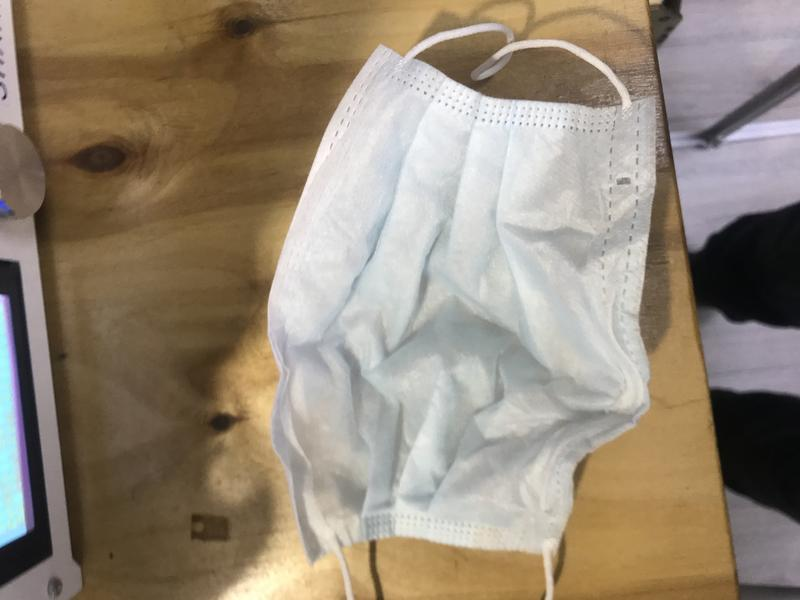medical_mask: (266, 22, 652, 600)
